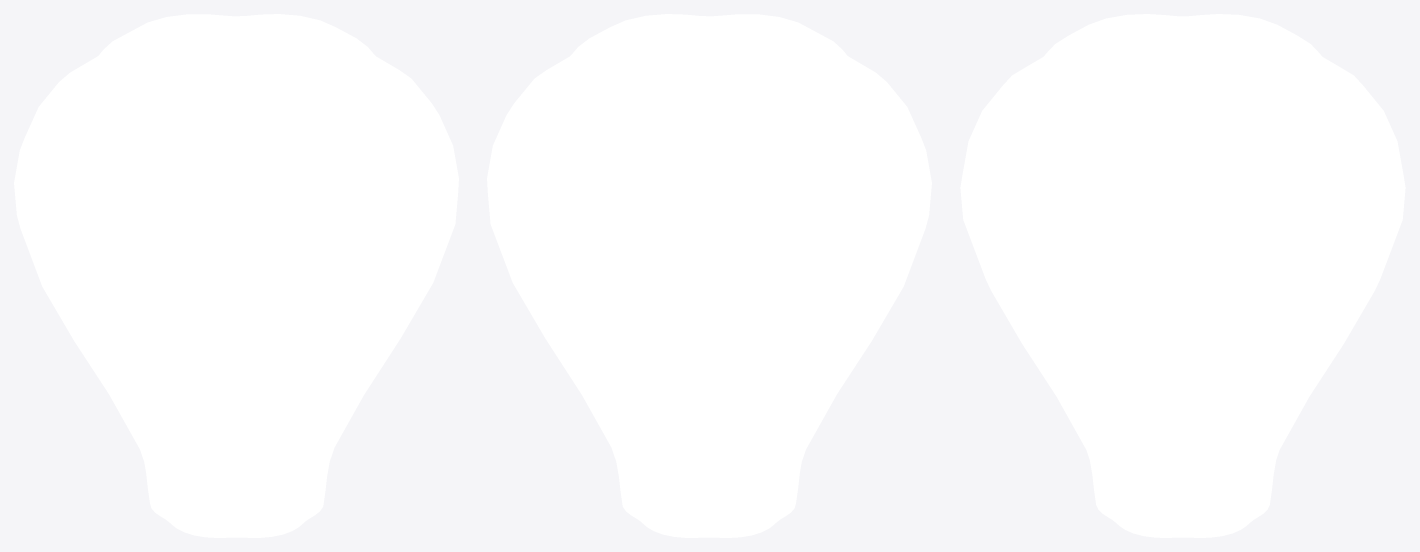
The model's file is Lantern (3).gltf.
The picture shows the model from 3 angles, left to right: view 1: azimuth 30°, elevation 25°; view 2: azimuth 150°, elevation 25°; view 3: azimuth 270°, elevation 25°; orthographic projection.
Parts seen in each view (by area): view 1: Loft; view 2: Loft; view 3: Loft.
Boxes of the visible parts, x1,y1,x2,y2 form: Loft: (14,14,458,537); Loft: (487,14,931,537); Loft: (960,14,1405,537).
Bounding box in the file's own units: 691 × 849 × 736.
Materials: 1 (1 with a texture image).
